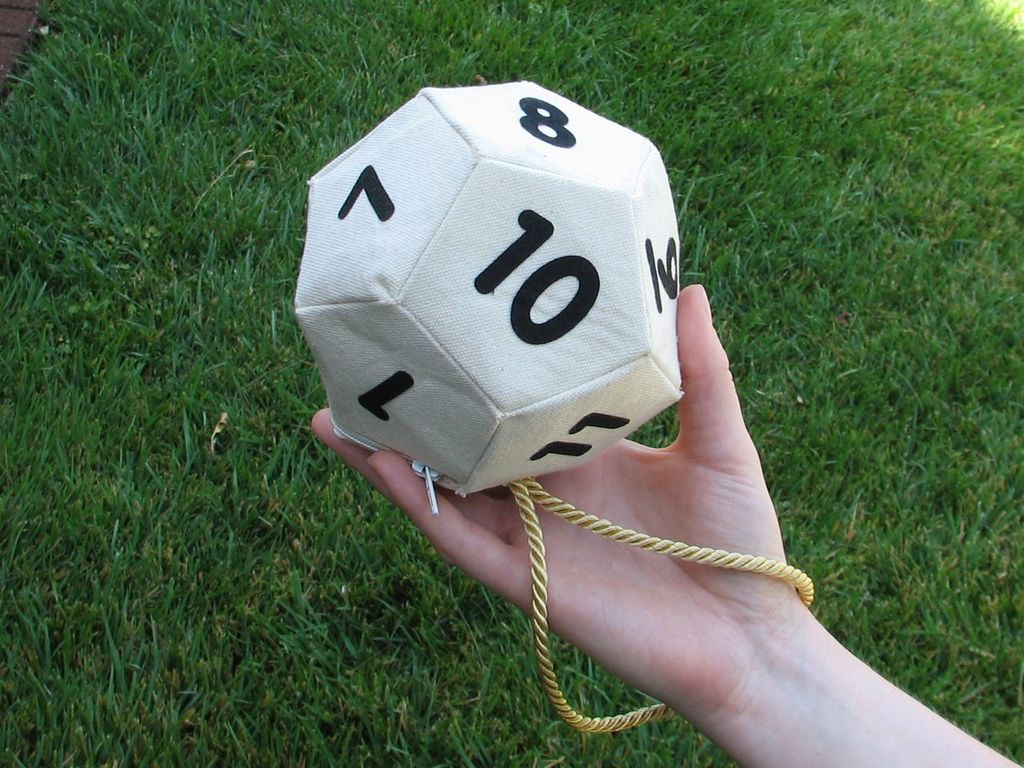Ball: (294, 80, 684, 502)
